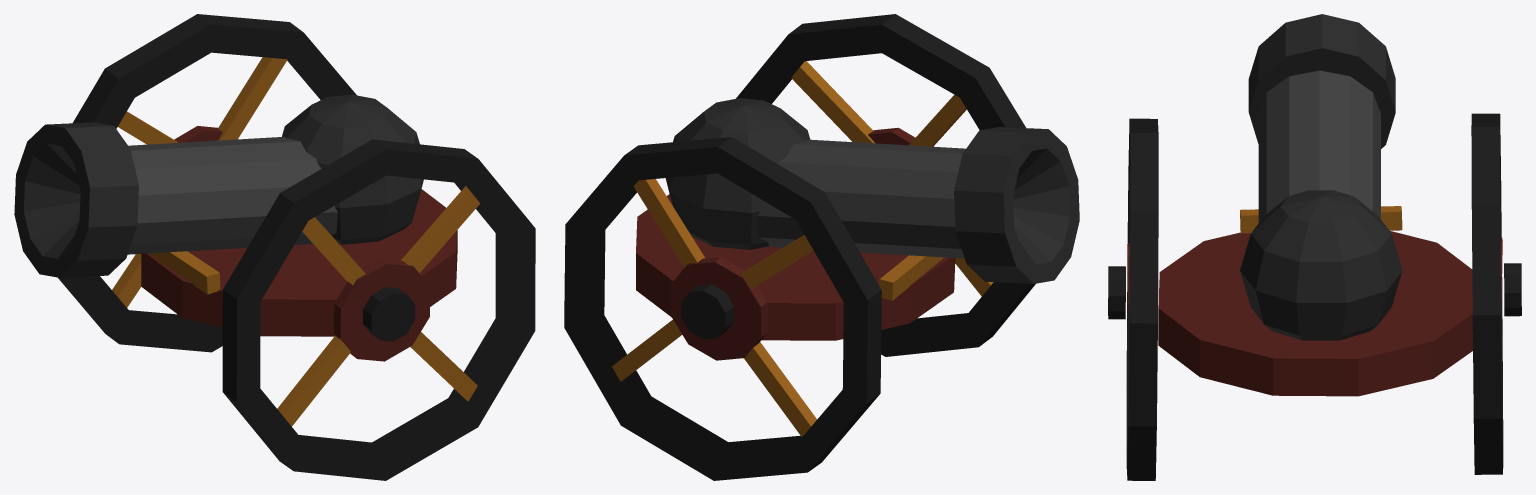
The model's file is Canon.fbx.
The picture shows the model from 3 angles, left to right: view 1: azimuth 30°, elevation 25°; view 2: azimuth 150°, elevation 25°; view 3: azimuth 270°, elevation 25°; orthographic projection.
Visible parts, largest first — view 1: Cylinder.004, Cylinder.003, Cylinder.001, Cylinder.002, Cylinder, Sphere, Cylinder.010, Cylinder.011, Cube.011, Cube.012, Cube, Cube.008 (+5 smaller); view 2: Cylinder.003, Cylinder.004, Cylinder.002, Cylinder.001, Cylinder, Sphere, Cylinder.005, Cube.012, Cube.001, Cylinder.006, Cube, Cube.008 (+4 smaller); view 3: Cylinder, Sphere, Cylinder.001, Cylinder.004, Cylinder.003, Cylinder.002, Cylinder.011, Cylinder.006, Cube.008.
Boxes of the visible parts, x1=… form: Cylinder.004: x1=222, y1=139, x2=535, y2=480; Cylinder.003: x1=58, y1=14, x2=356, y2=352; Cylinder.001: x1=127, y1=136, x2=337, y2=254; Cylinder.002: x1=14, y1=122, x2=138, y2=277; Cylinder: x1=141, y1=189, x2=457, y2=336; Sphere: x1=282, y1=94, x2=423, y2=244; Cylinder.010: x1=333, y1=259, x2=430, y2=361; Cylinder.011: x1=363, y1=287, x2=415, y2=341; Cube.011: x1=277, y1=335, x2=350, y2=426; Cube.012: x1=401, y1=186, x2=479, y2=272; Cube: x1=218, y1=57, x2=287, y2=140; Cube.008: x1=148, y1=251, x2=220, y2=294; Cylinder.003: x1=564, y1=137, x2=881, y2=480; Cylinder.004: x1=736, y1=14, x2=1035, y2=356; Cylinder.002: x1=954, y1=127, x2=1079, y2=283; Cylinder.001: x1=757, y1=139, x2=965, y2=258; Cylinder: x1=636, y1=194, x2=955, y2=340; Sphere: x1=665, y1=98, x2=810, y2=249; Cylinder.005: x1=670, y1=257, x2=767, y2=360; Cube.012: x1=791, y1=61, x2=874, y2=143; Cube.001: x1=744, y1=342, x2=816, y2=436; Cylinder.006: x1=681, y1=284, x2=733, y2=339; Cube: x1=633, y1=179, x2=704, y2=267; Cube.008: x1=879, y1=255, x2=944, y2=300; Cylinder: x1=1158, y1=231, x2=1472, y2=396; Sphere: x1=1240, y1=190, x2=1402, y2=340; Cylinder.001: x1=1258, y1=70, x2=1380, y2=222; Cylinder.004: x1=1126, y1=118, x2=1158, y2=480; Cylinder.003: x1=1471, y1=113, x2=1503, y2=474; Cylinder.002: x1=1248, y1=14, x2=1395, y2=148; Cylinder.011: x1=1108, y1=266, x2=1125, y2=319; Cylinder.006: x1=1504, y1=263, x2=1521, y2=316; Cube.008: x1=1240, y1=206, x2=1402, y2=233.
Size of the model in its own units: 576 by 463 by 509.
